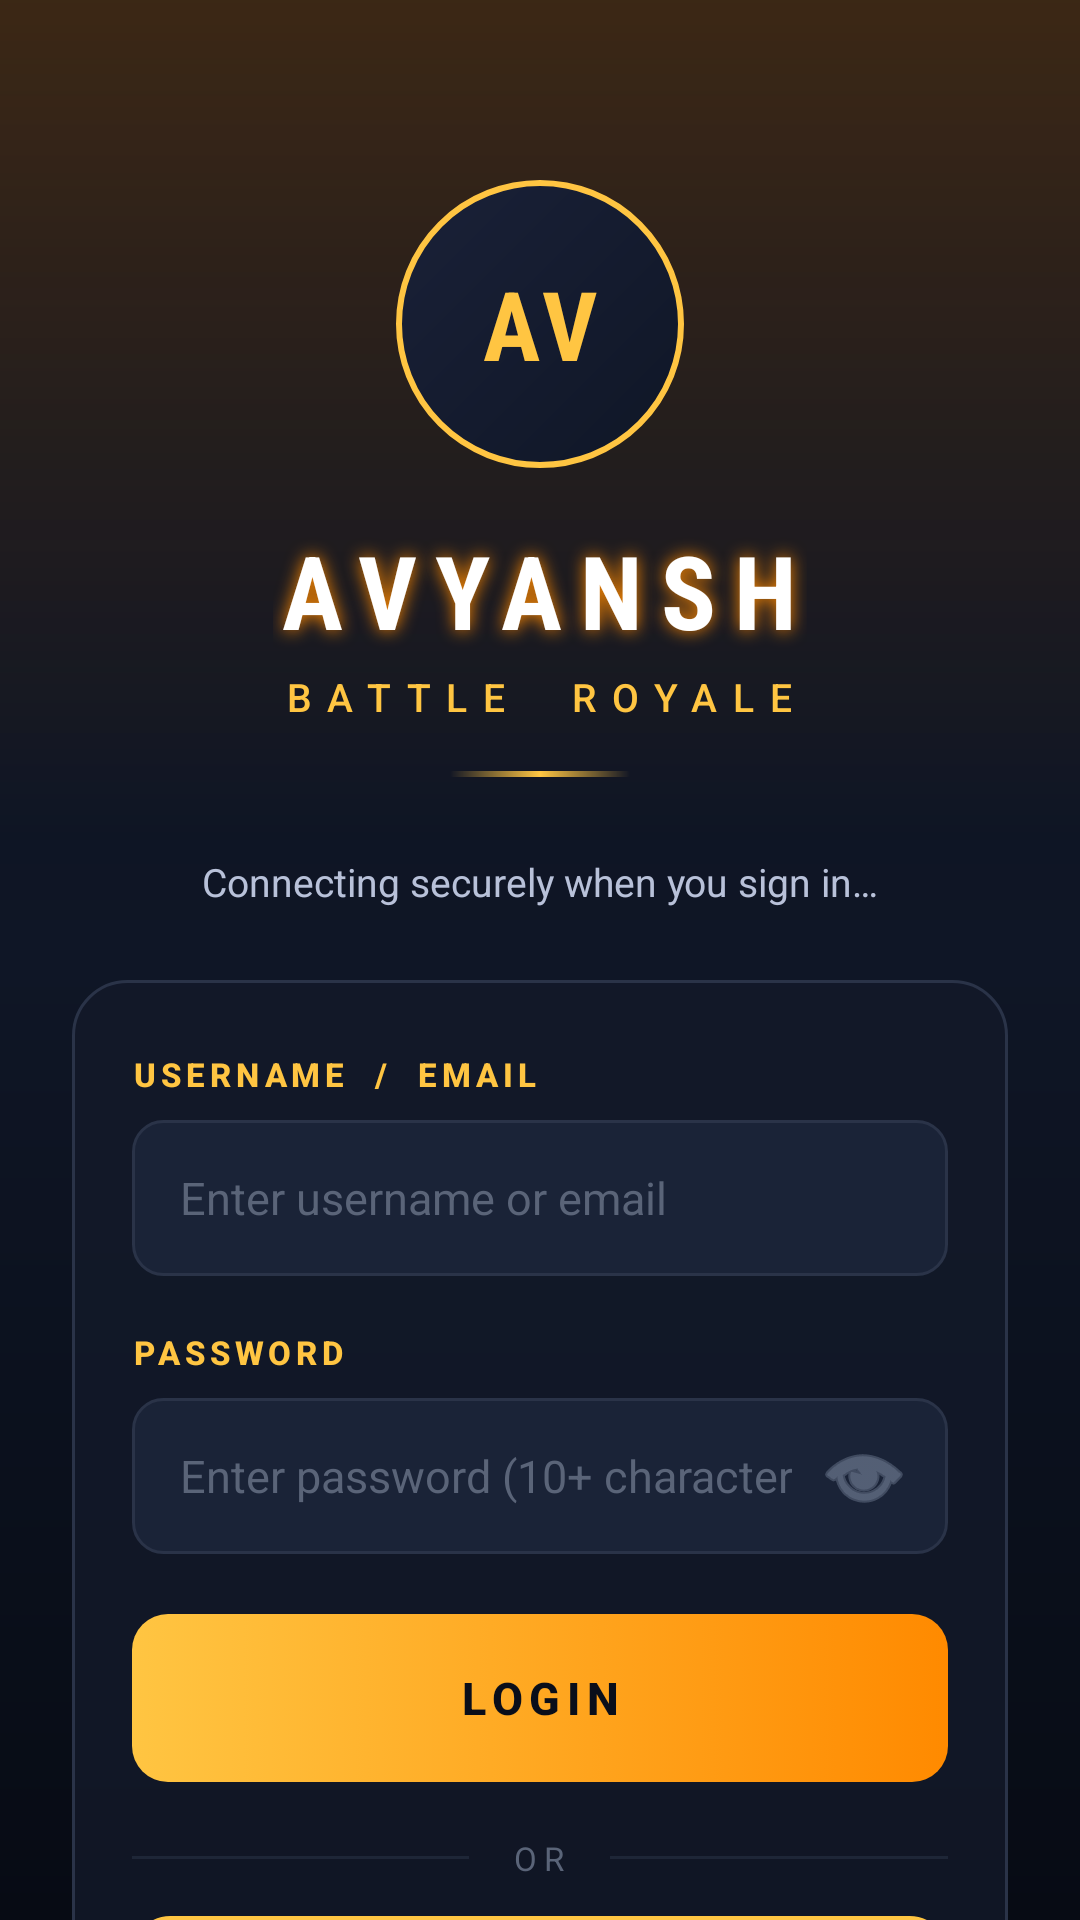

Screen size 1080px x 1920px. Icon name, then its center in pixels as (x,y):
Togglepasswordvisibility: (864,1478)
